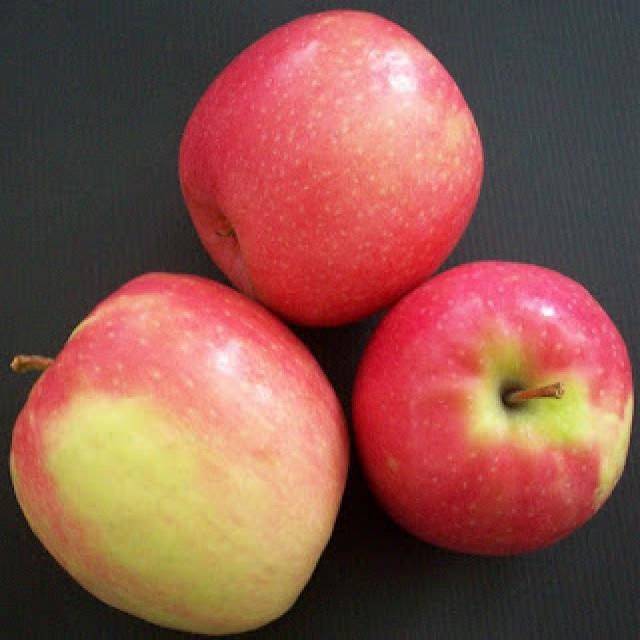Apple: (14, 264, 348, 612), (174, 7, 484, 314), (353, 255, 639, 548)
